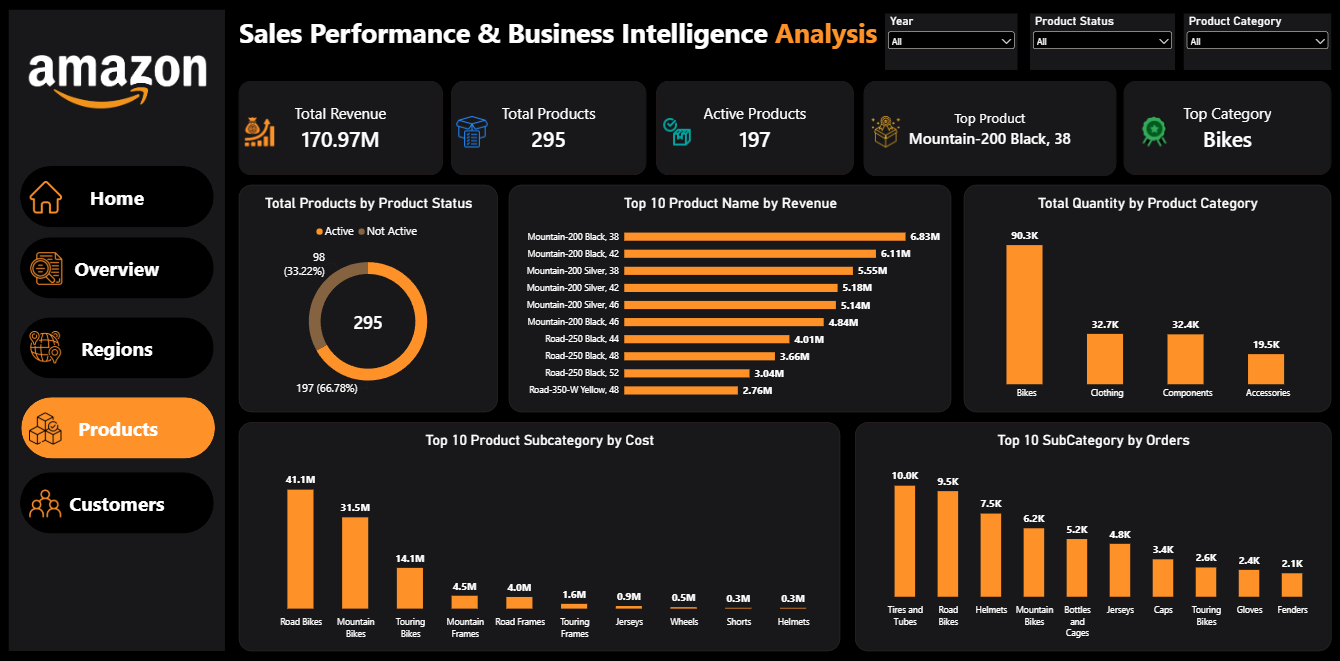

This screenshot's page, from the dashboard's own definition file:
{"tool":"powerbi","page":{"name":"Products","canvas":[2150,1080],"ordinal":3},"visuals":[{"type":"textbox","box":[382,28,1022,86],"z":0},{"type":"cardVisual","fields":{"Data":["Sales 2011 to 2014.Total Revenue"]},"box":[382,136,326,150],"z":0,"group":"g1"},{"type":"cardVisual","fields":{"Data":["Products.Total Products"]},"box":[722,136,312,150],"z":1000,"group":"g1"},{"type":"clusteredColumnChart","title":"Top 10 SubCategory by Orders","fields":{"Category":["Products.Product Subcategory"],"Y":["Sales 2011 to 2014.Total Orders"]},"box":[1368,682,762,366],"z":1000},{"type":"cardVisual","fields":{"Data":["Products.Active Products"]},"box":[1050,136,316,150],"z":2000,"group":"g1"},{"type":"columnChart","fields":{"Category":["Products.Product Category"],"Y":["Sales 2011 to 2014.Total Quantity"]},"box":[1542,302,588,364],"z":2000},{"type":"cardVisual","fields":{"Data":["Products.Top Product"]},"box":[1382,136,404,152],"z":3000,"group":"g1"},{"type":"barChart","title":"Top 10 Product Name by Revenue","fields":{"Category":["Products.ProductName"],"Y":["Sales 2011 to 2014.Total Revenue"]},"box":[814,302,708,364],"z":3000},{"type":"donutChart","fields":{"Category":["Products.Product Status"],"Y":["Products.Total Products"]},"box":[382,302,414,364],"z":4000},{"type":"slicer","fields":{"Values":["Sales 2011 to 2014.OrderDate.Variation.Date Hierarchy.Year"]},"box":[1416,28,212,90],"z":5000},{"type":"cardVisual","fields":{"Data":["Products.Top Category"]},"box":[1798,136,332,150],"z":5000,"group":"g1"},{"type":"slicer","fields":{"Values":["Products.Product Status"]},"box":[1648,28,232,90],"z":6000},{"type":"slicer","fields":{"Values":["Products.Product Category"]},"box":[1894,28,236,90],"z":7000},{"type":"shape","box":[14,22,346,1026],"z":8000},{"type":"shape","box":[32,272,310,98],"z":9000},{"type":"image","box":[36,296,74,52],"z":10000},{"type":"shape","box":[32,386,310,98],"z":11000},{"type":"group","id":"g1","title":"Group 1","box":[382,136,1748,152],"z":12000},{"type":"image","box":[42,410,64,52],"z":13000},{"type":"shape","box":[32,514,310,98],"z":14000},{"type":"shape","box":[34,642,310,98],"z":15000},{"type":"shape","box":[32,762,310,98],"z":16000},{"type":"image","box":[40,536,64,52],"z":17000},{"type":"image","box":[40,786,64,52],"z":18000},{"type":"image","box":[40,666,64,52],"z":19000},{"type":"image","box":[382,192,66,50],"z":21000},{"type":"image","box":[722,192,66,50],"z":22000},{"type":"image","box":[1050,192,66,50],"z":23000},{"type":"image","box":[1384,192,66,50],"z":24000},{"type":"image","box":[1814,192,66,50],"z":25000},{"type":"columnChart","title":"Top 10  Product Subcategory by Cost","fields":{"Category":["Products.Product Subcategory"],"Y":["Sales 2011 to 2014.Total Cost"]},"box":[382,682,962,366],"z":26000},{"type":"image","box":[46,80,284,114],"z":26001}]}

Visuals, with their boxes in screenshot pixels (x1, y1, x2, y2), scaled from the page's 2150x1080 canvas onto the 1340x661 screenshot:
textbox: rect(238, 17, 875, 70)
cardVisual - Sales 2011 to 2014.Total Revenue: rect(238, 83, 441, 175)
cardVisual - Products.Total Products: rect(450, 83, 644, 175)
"Top 10 SubCategory by Orders" clusteredColumnChart: rect(853, 417, 1328, 641)
cardVisual - Products.Active Products: rect(654, 83, 851, 175)
columnChart - Products.Product Category x Sales 2011 to 2014.Total Quantity: rect(961, 185, 1328, 408)
cardVisual - Products.Top Product: rect(861, 83, 1113, 176)
"Top 10 Product Name by Revenue" barChart: rect(507, 185, 949, 408)
donutChart - Products.Product Status x Products.Total Products: rect(238, 185, 496, 408)
slicer - Sales 2011 to 2014.OrderDate.Variation.Date Hierarchy.Year: rect(883, 17, 1015, 72)
cardVisual - Products.Top Category: rect(1121, 83, 1328, 175)
slicer - Products.Product Status: rect(1027, 17, 1172, 72)
slicer - Products.Product Category: rect(1180, 17, 1328, 72)
shape: rect(9, 13, 224, 641)
shape: rect(20, 166, 213, 226)
image: rect(22, 181, 69, 213)
shape: rect(20, 236, 213, 296)
"Group 1" group: rect(238, 83, 1328, 176)
image: rect(26, 251, 66, 283)
shape: rect(20, 315, 213, 375)
shape: rect(21, 393, 214, 453)
shape: rect(20, 466, 213, 526)
image: rect(25, 328, 65, 360)
image: rect(25, 481, 65, 513)
image: rect(25, 408, 65, 439)
image: rect(238, 118, 279, 148)
image: rect(450, 118, 491, 148)
image: rect(654, 118, 696, 148)
image: rect(863, 118, 904, 148)
image: rect(1131, 118, 1172, 148)
"Top 10  Product Subcategory by Cost" columnChart: rect(238, 417, 838, 641)
image: rect(29, 49, 206, 119)
